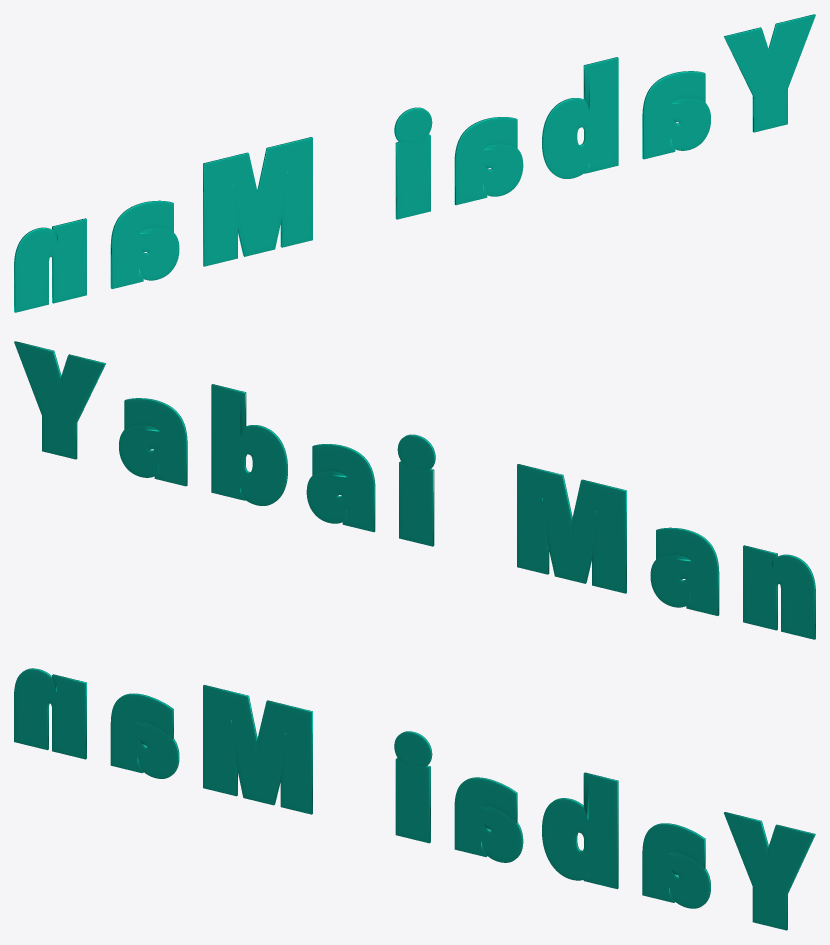
The model's file is Title.obj.
3 views of the same model, one above another, from view 1: azimuth 30°, elevation 25°; view 2: azimuth 150°, elevation 25°; view 3: azimuth 330°, elevation 25° (orthographic).
Parts seen in each view (by area): view 1: yabai; view 2: yabai; view 3: yabai.
Boxes of the visible parts, left/top/right/bottom form: yabai: left=14, top=14, right=815, bottom=312; yabai: left=14, top=341, right=815, bottom=639; yabai: left=14, top=668, right=815, bottom=930.
Bounding box in the file's own units: 128 × 16.74 × 0.42.
